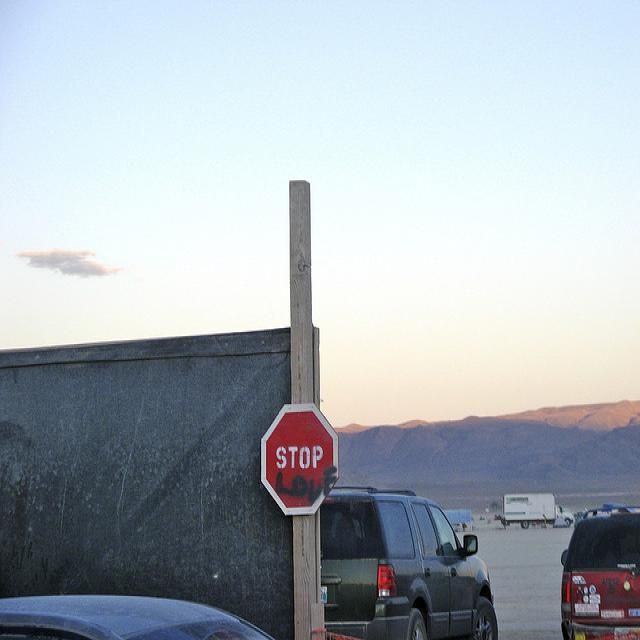Vehicle: (320, 486, 496, 640), (0, 594, 277, 640), (561, 506, 640, 640), (560, 508, 640, 640), (503, 494, 578, 526)
